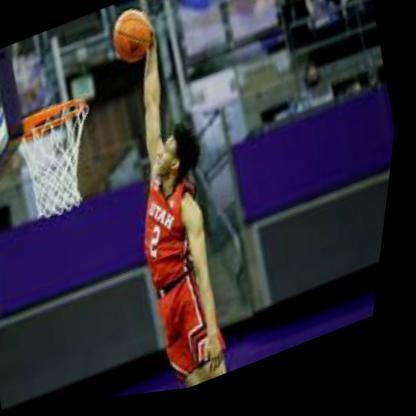basketball: (106, 3, 162, 72)
rim: (18, 93, 95, 146)
